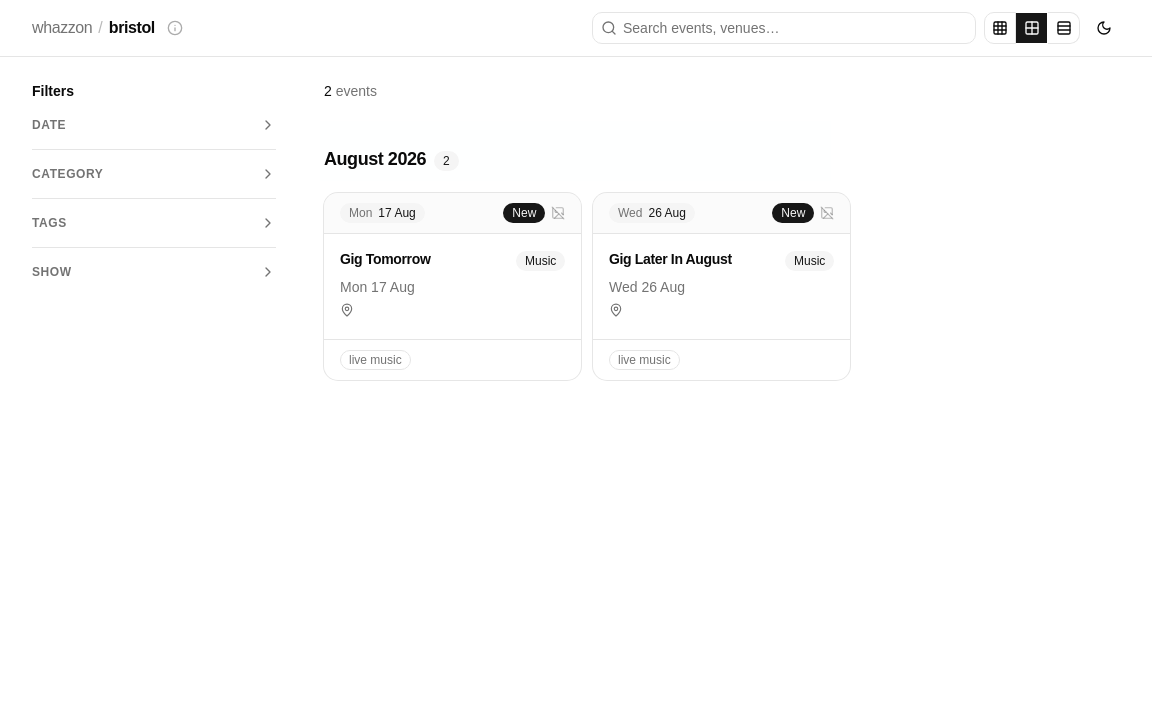
Scenario: the date control, on the real page › opens a calendar when clicked
Check: the heading "Gig Tomorrow" is shown, box [340,251,430,267]
Click the button "Date": (154, 125) [32,113,276,137]
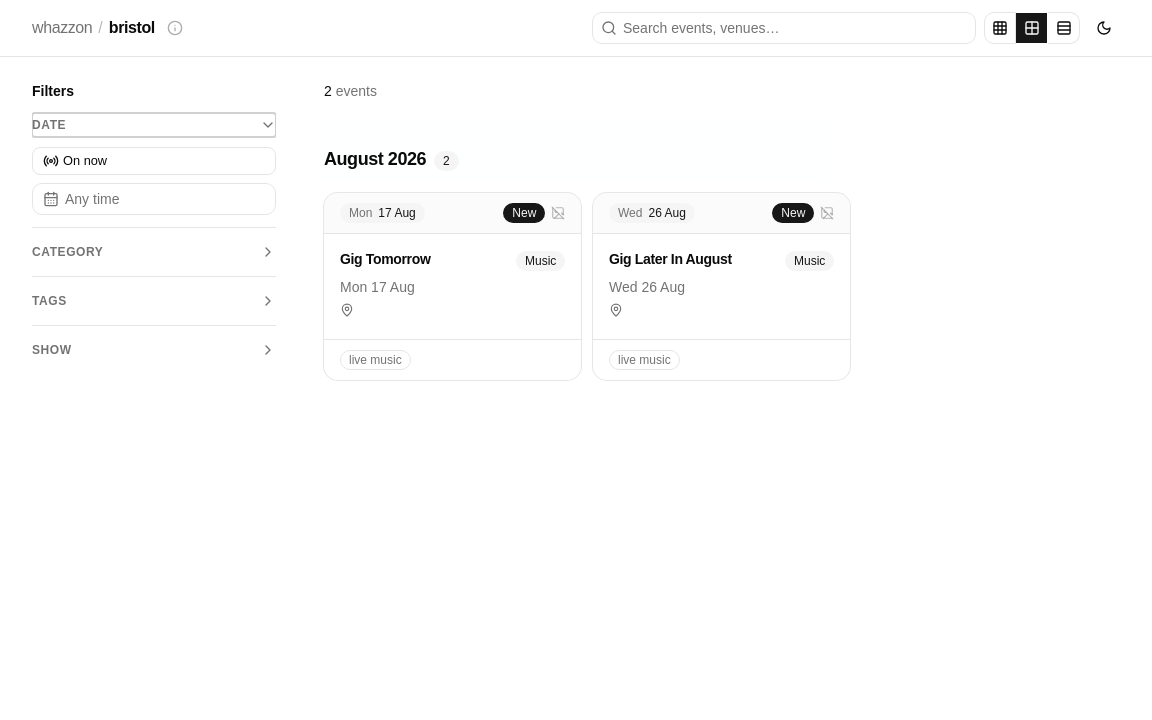
Click the button "Any time": (154, 199) [32,183,276,215]
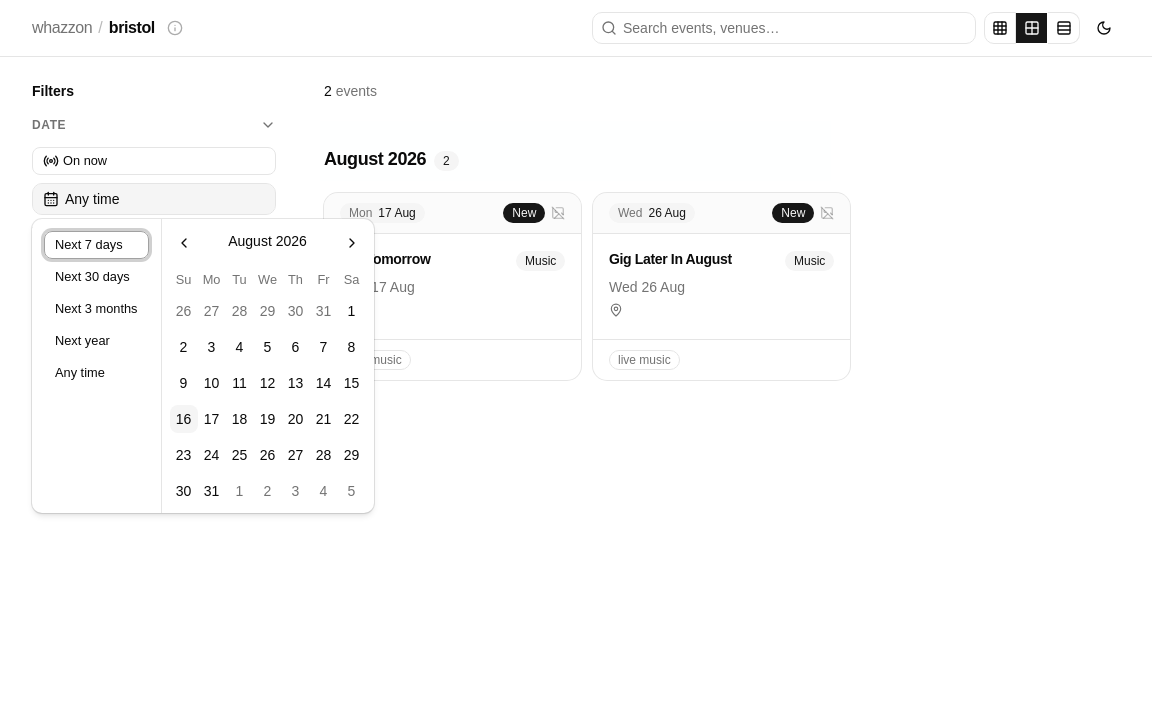
Check: the table is shown, box [170,271,366,505]
Check: the button "Next 7 days" is shown, box [44,231,148,259]
